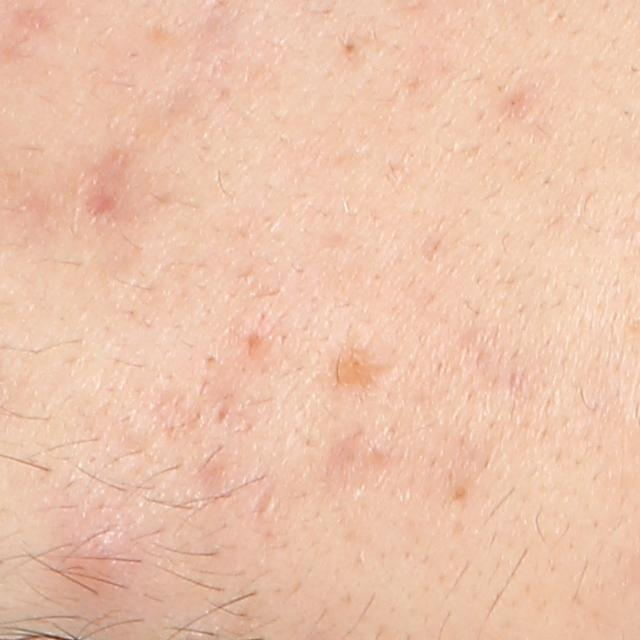atrophic_scar: (251, 475, 280, 520), (207, 397, 234, 428)
comedo: (335, 37, 360, 63)
papule: (55, 505, 148, 602)
